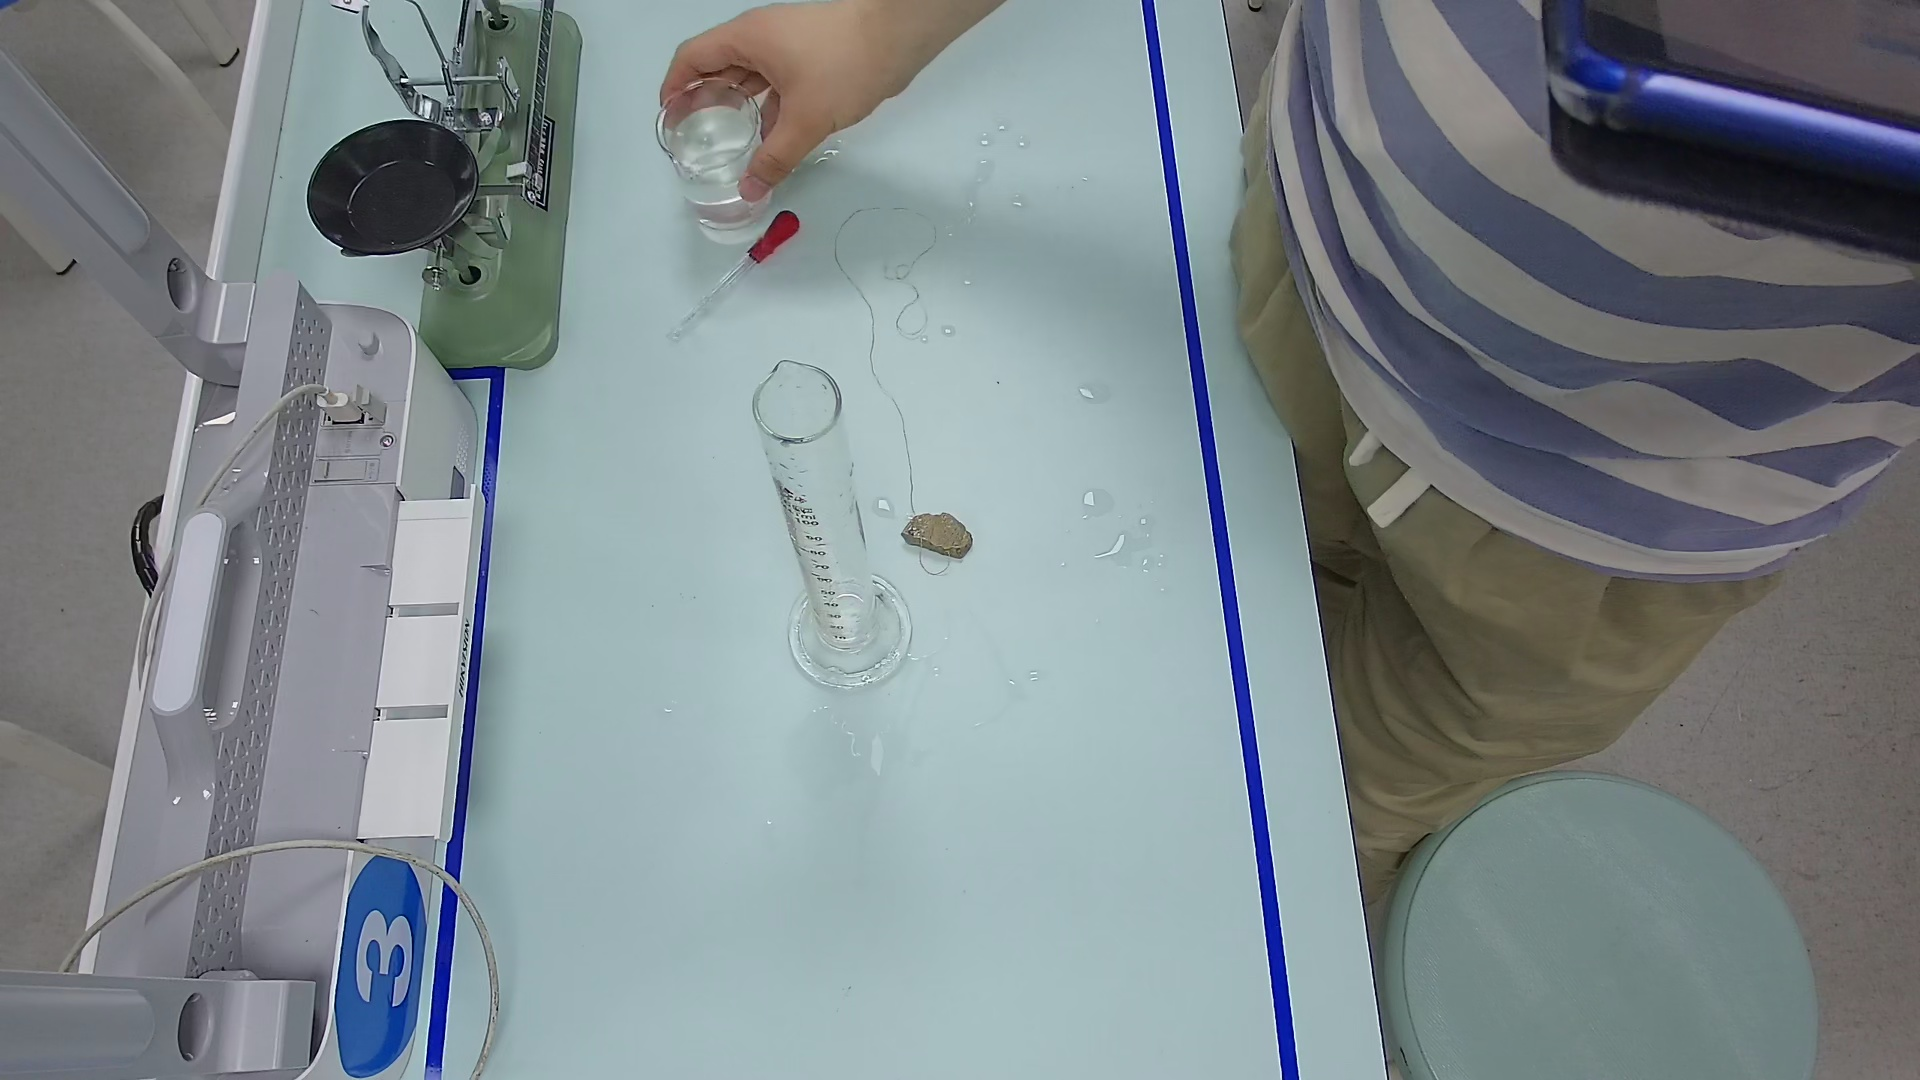bei: (655, 76, 775, 251)
diguan: (673, 212, 808, 335)
diguantou: (738, 208, 807, 270)
hand: (661, 1, 899, 186)
liangdi: (790, 579, 913, 698)
liangtong: (744, 356, 911, 687)
shi: (899, 513, 975, 560)
tuo: (306, 115, 469, 258)
